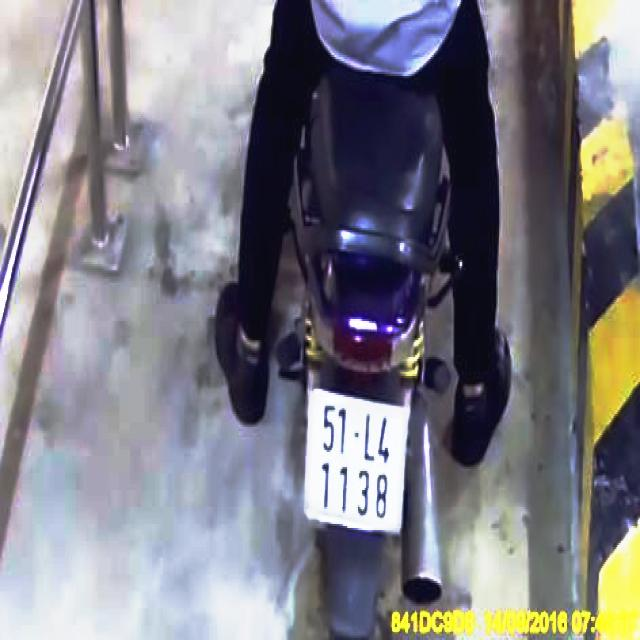license_plate: (305, 389, 410, 530)
